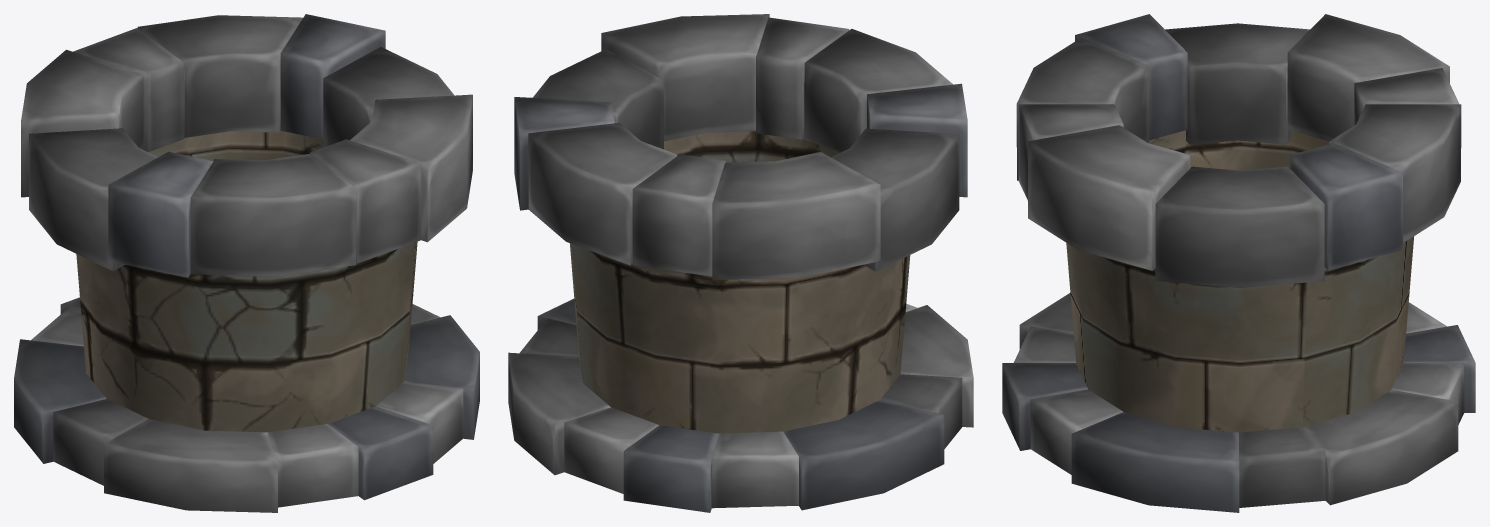
Rendered from Well1.fbx.
The picture shows the model from 3 angles, left to right: view 1: azimuth 30°, elevation 25°; view 2: azimuth 150°, elevation 25°; view 3: azimuth 270°, elevation 25°; orthographic projection.
Parts seen in each view (by area): view 1: polySurface2064; view 2: polySurface2064; view 3: polySurface2064.
Part boxes in pixels (<box>): polySurface2064: <box>14,14,479,512</box>; polySurface2064: <box>508,14,973,512</box>; polySurface2064: <box>1002,14,1475,512</box>.
Size of the model in its own units: 144 by 103 by 144.
1 material, 1 textured.
